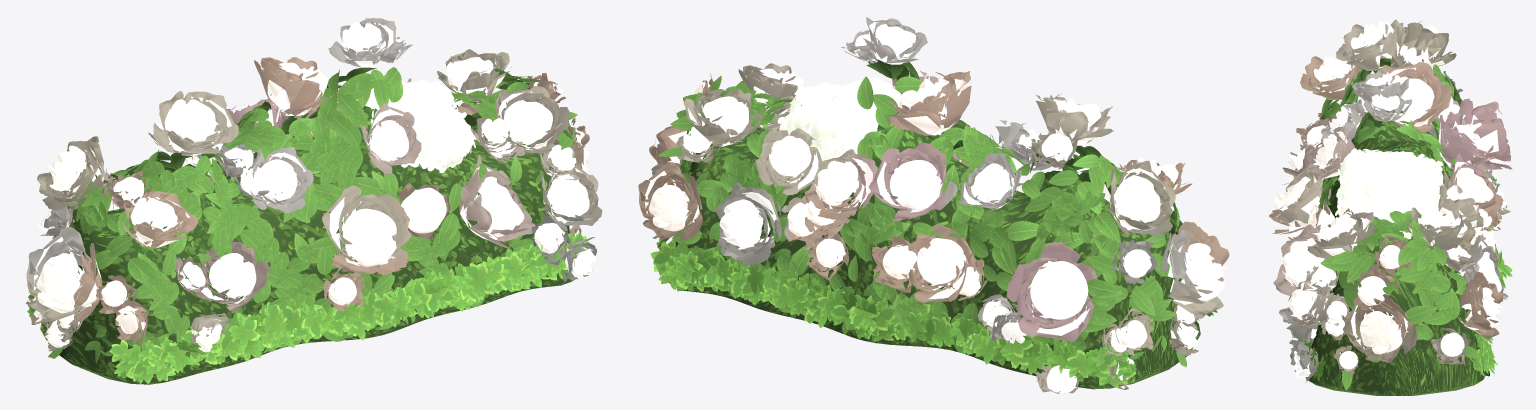
File: FlowerBank_1m_sample_A_1002_v6.glb
3 renders of one model, left to right at view 1: azimuth 30°, elevation 25°; view 2: azimuth 150°, elevation 25°; view 3: azimuth 270°, elevation 25°, orthographic. The views are drawn at different scales.
Visible parts, largest first — view 1: FlowerBank_1m; view 2: FlowerBank_1m; view 3: FlowerBank_1m.
Boxes of the visible parts, x1,y1,x2,y2 form: FlowerBank_1m: (26, 18, 602, 384); FlowerBank_1m: (638, 17, 1229, 393); FlowerBank_1m: (1269, 19, 1512, 395).
Bounding box in the file's own units: 1.28 × 0.5736 × 0.5706.
Materials: 7 (6 with a texture image).
